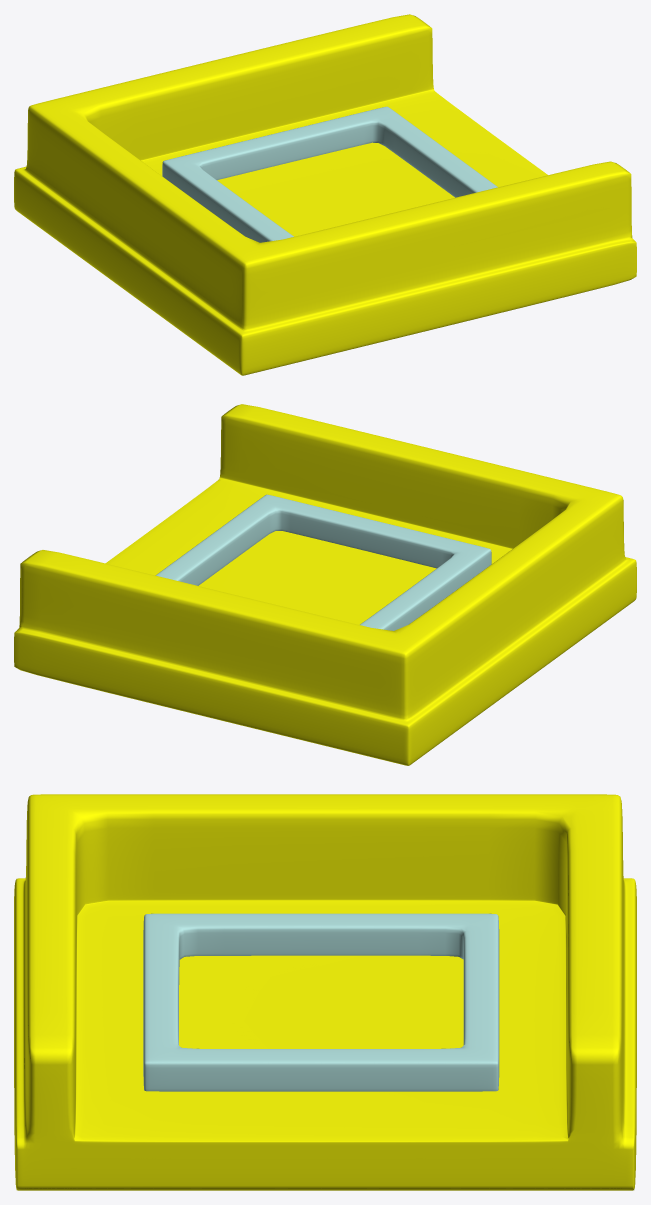
3 views of the same model, one above another, from view 1: azimuth 30°, elevation 25°; view 2: azimuth 150°, elevation 25°; view 3: azimuth 270°, elevation 25° (orthographic). The views are drawn at different scales.
Parts seen in each view (by area): view 1: polySurface1241; view 2: polySurface1241; view 3: polySurface1241.
Part boxes in pixels (x1,y1,x2,y2): polySurface1241: [14, 14, 636, 375]; polySurface1241: [14, 404, 636, 765]; polySurface1241: [14, 794, 636, 1190].
Bounding box in the file's own units: 0.9998 × 0.2597 × 0.9997.
